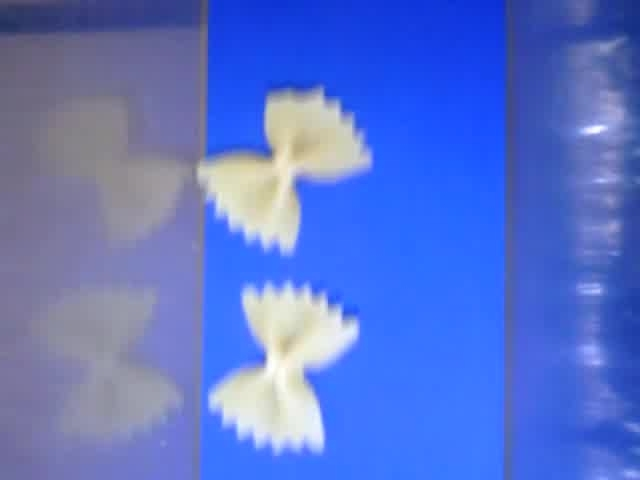farfalle: (196, 85, 374, 255), (207, 281, 361, 457)
